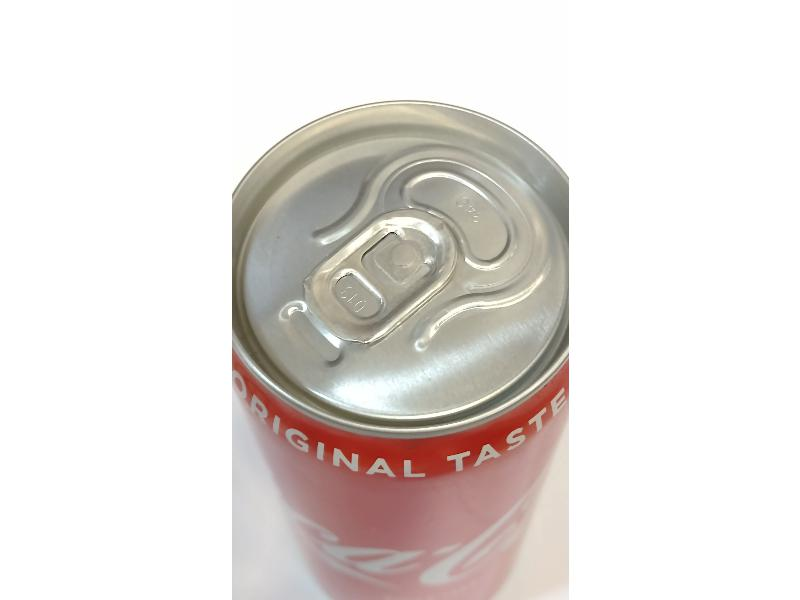can: (220, 87, 567, 582)
